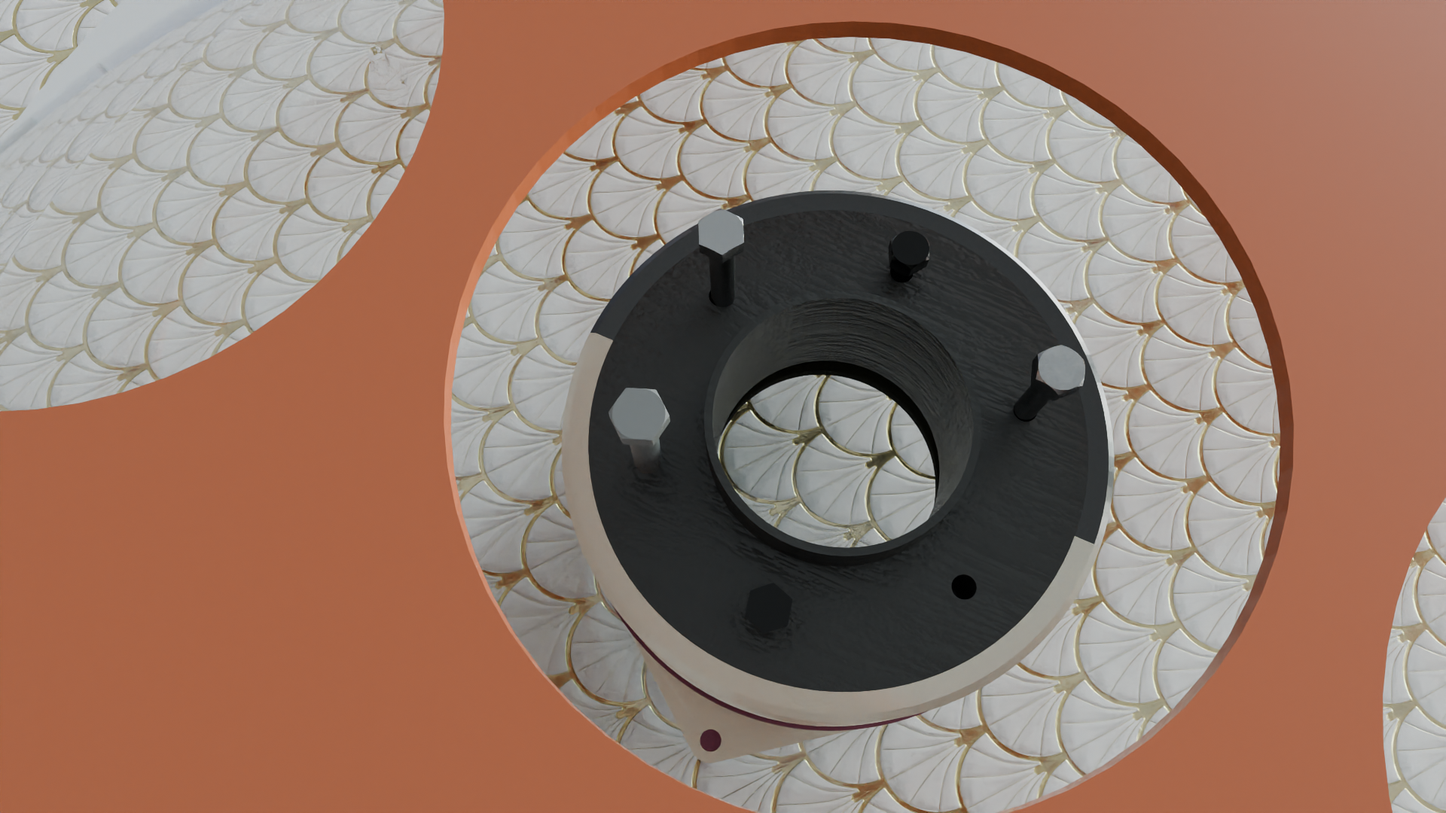bolt: (609, 388, 670, 440), (1036, 345, 1085, 395), (746, 583, 792, 632), (698, 209, 744, 255), (891, 230, 929, 269)
